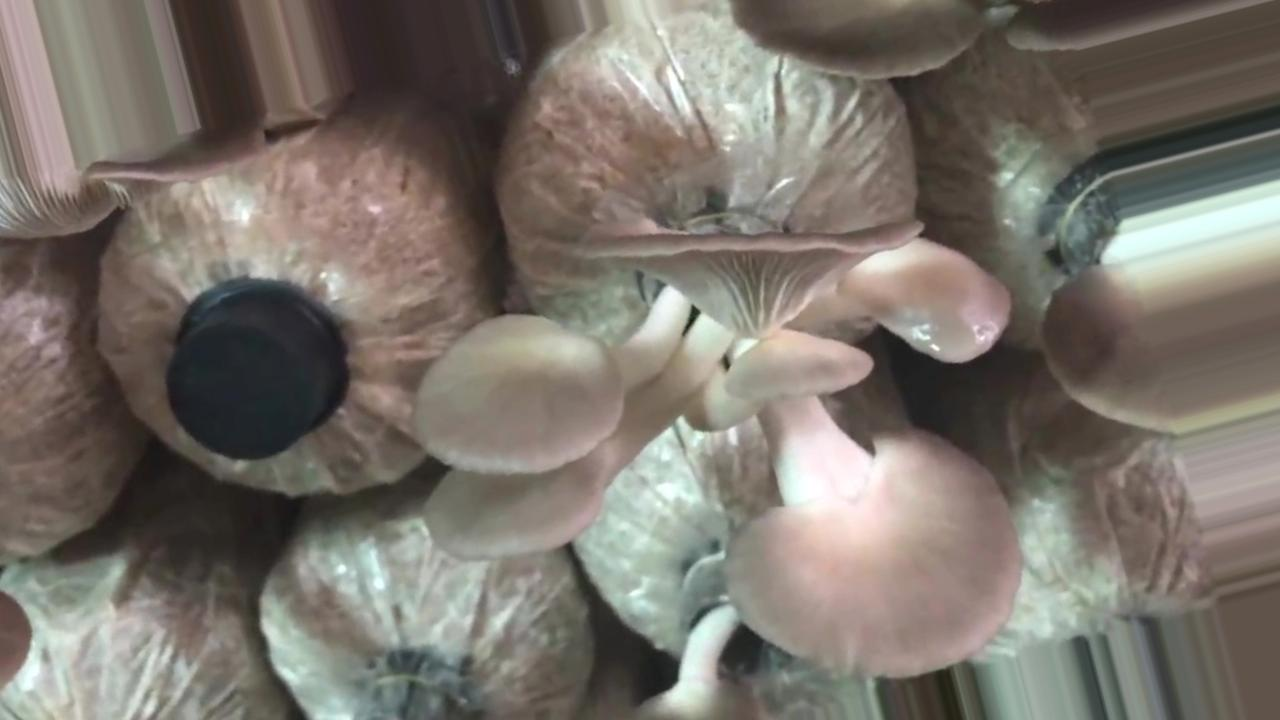nam: (407, 217, 1023, 678), (1042, 167, 1280, 443), (732, 1, 993, 82)
